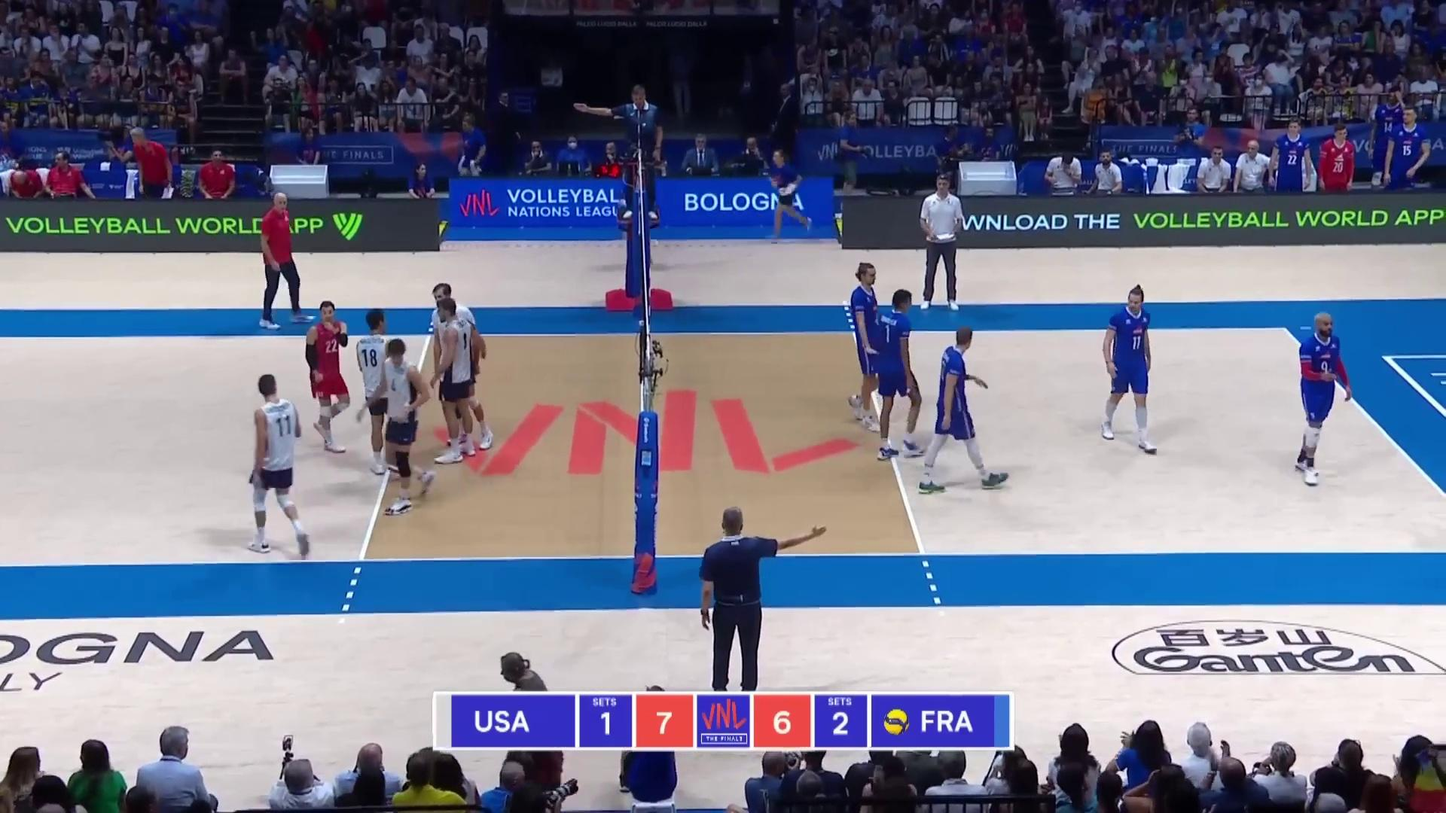player: (915, 334, 1003, 496), (249, 374, 315, 552), (429, 282, 493, 451), (872, 287, 926, 470), (424, 298, 482, 464), (1295, 314, 1351, 482), (378, 339, 428, 517), (1100, 293, 1153, 453), (356, 310, 401, 473), (306, 302, 354, 449), (845, 266, 888, 414)
refree: (704, 508, 812, 688), (601, 83, 666, 222)
